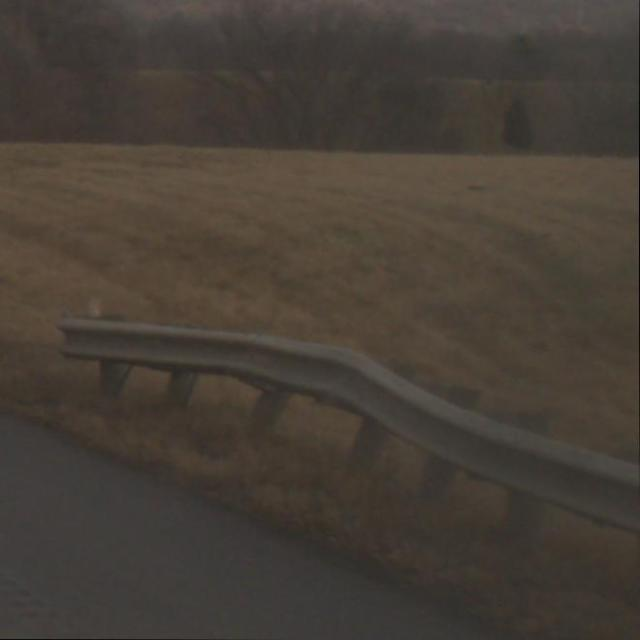Guard rail: (49, 305, 640, 578)
